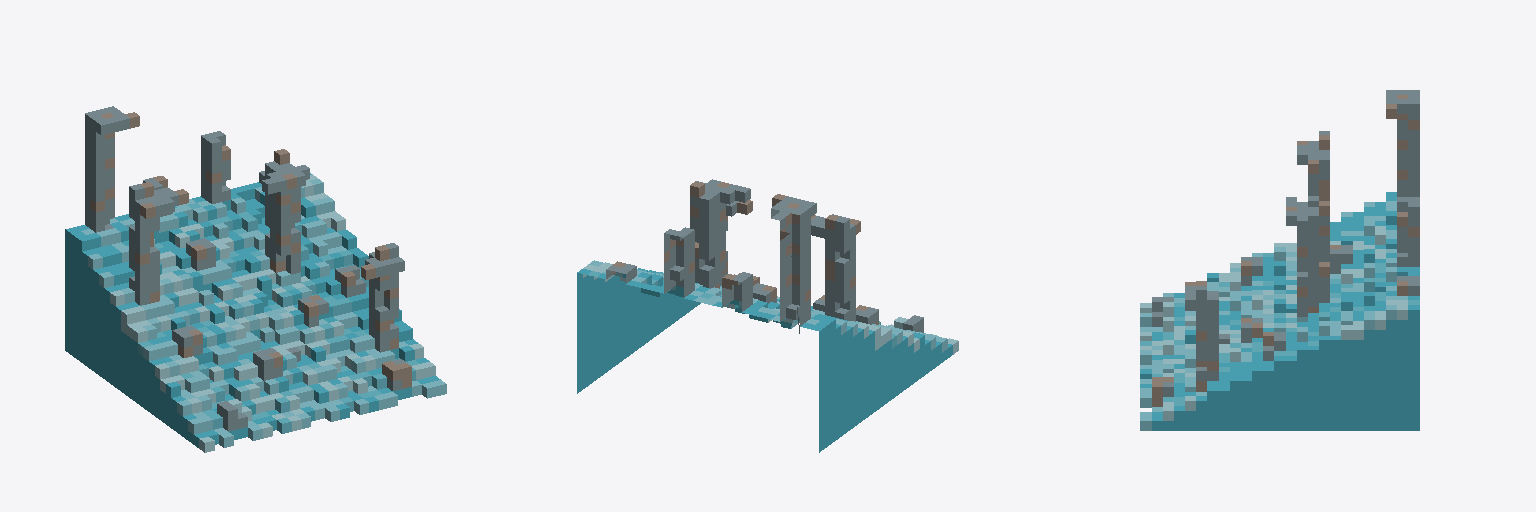
The picture shows the model from 3 angles: view 1: azimuth 30°, elevation 25°; view 2: azimuth 150°, elevation 25°; view 3: azimuth 270°, elevation 25°; orthographic projection.
Visible parts, largest first — view 1: Sklon_04:Mesh; view 2: Sklon_04:Mesh; view 3: Sklon_04:Mesh.
Part boxes in pixels (x1,y1,x2,y2): Sklon_04:Mesh: (65,106,446,452); Sklon_04:Mesh: (577,179,958,452); Sklon_04:Mesh: (1140,90,1419,430).
Bounding box in the file's own units: 4 × 3.68 × 4.
Materials: 1 (1 with a texture image).